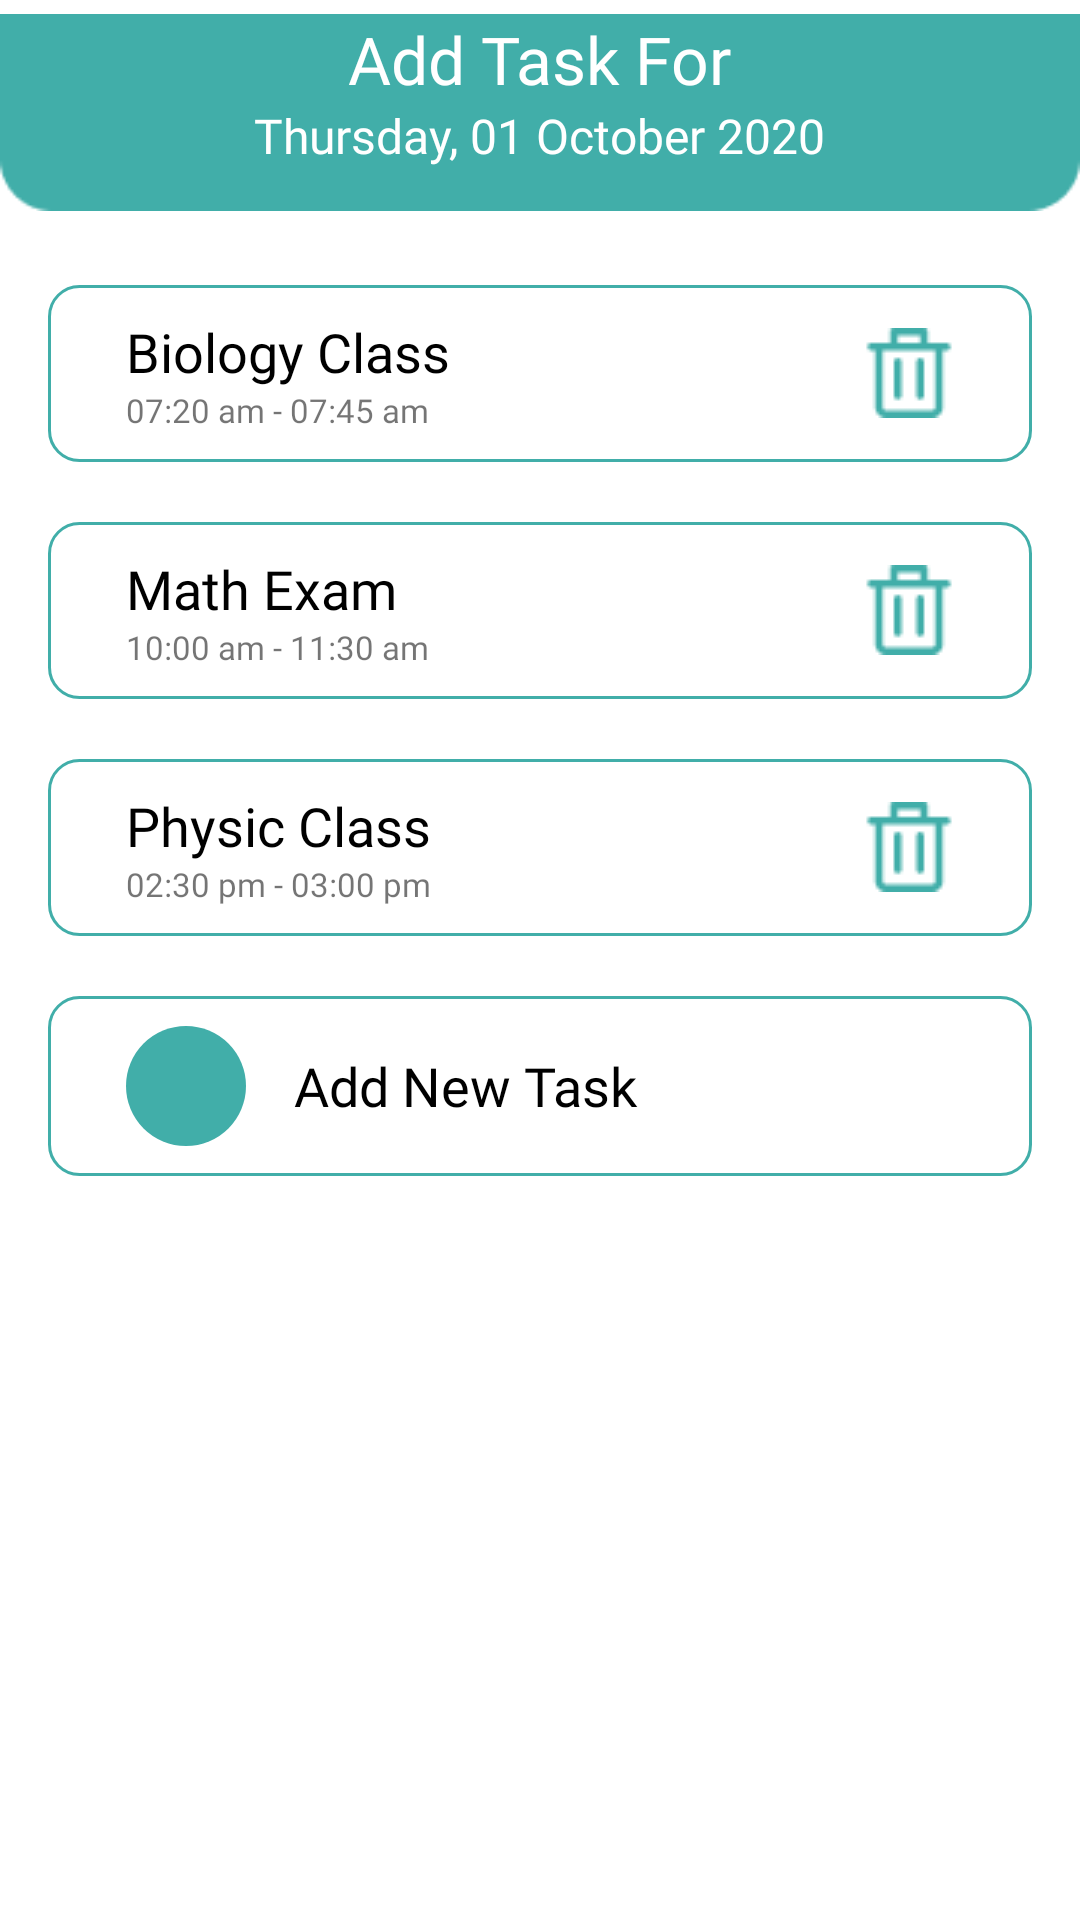

Where icons sit on this 1080w x 1920h app screen, as (x1, y1, x2, y2):
trash: (866, 328, 952, 418), (866, 565, 952, 655), (866, 802, 952, 892)
